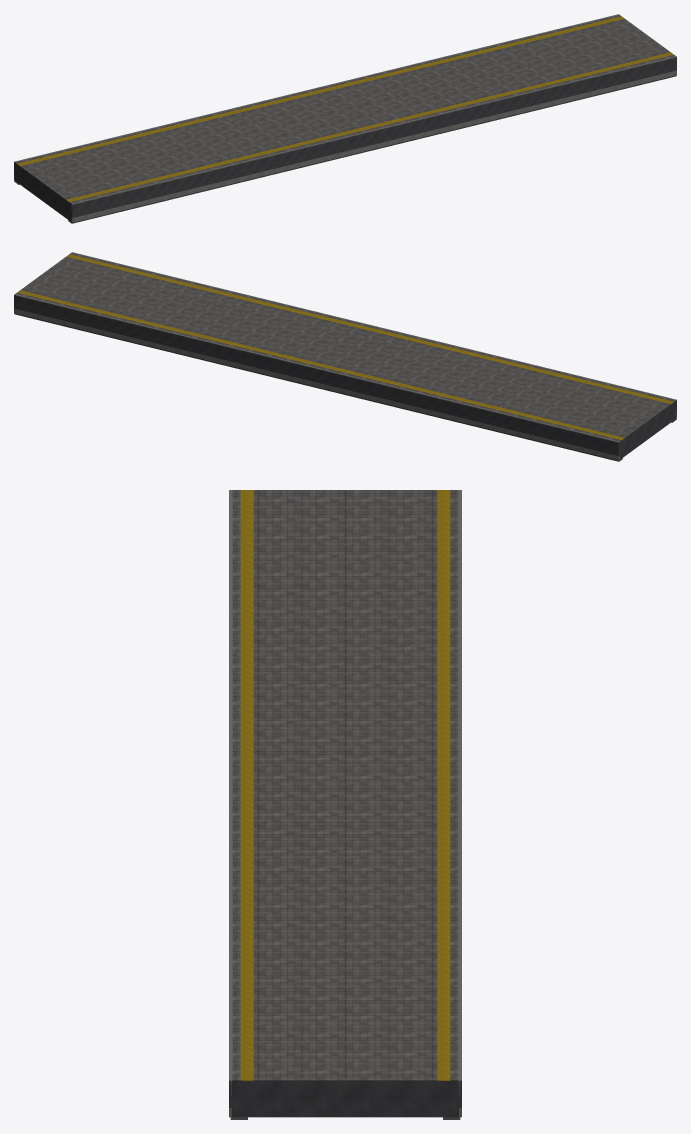
Rendered from platform_deck.obj.
3 renders of one model, top to bottom at view 1: azimuth 30°, elevation 25°; view 2: azimuth 150°, elevation 25°; view 3: azimuth 270°, elevation 25°, orthographic. The views are drawn at different scales.
Visible parts, largest first — view 1: platform_deck; view 2: platform_deck; view 3: platform_deck.
Part boxes in pixels (box(x1,y1,x2,y2)): platform_deck: box(14, 14, 676, 223); platform_deck: box(14, 252, 676, 461); platform_deck: box(229, 490, 461, 1119).
Size of the model in its own units: 48 by 1.5 by 8.
